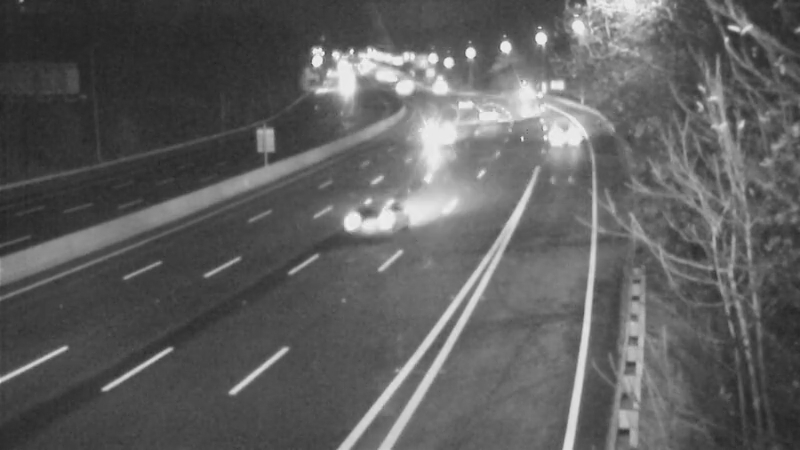vehicle: (337, 182, 417, 262), (415, 58, 465, 108), (380, 65, 430, 115), (436, 75, 486, 125), (504, 79, 554, 129), (463, 94, 513, 144), (541, 120, 591, 170), (409, 107, 459, 157)
